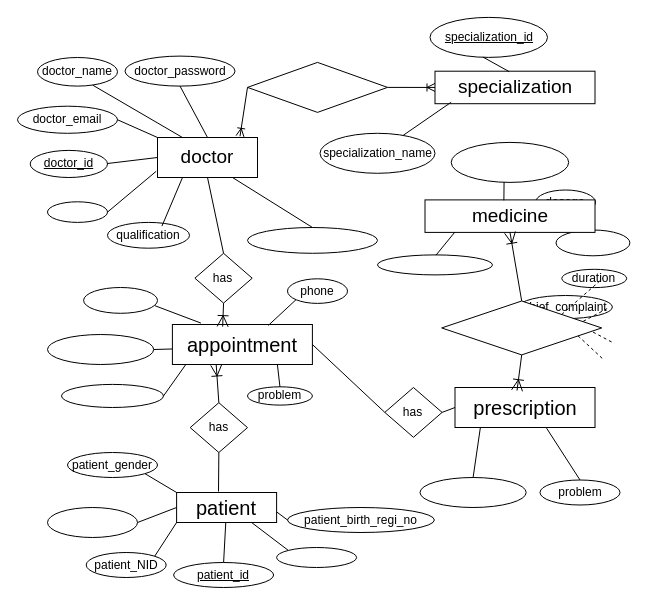
Image size: 648x606. Some labels were removed from this diagram. The centre of each missing label's shape, as x and y in pixels:
appointment_date: (112,395)
appointment_no: (100,349)
before_after: (592,242)
doctor_specialization: (317,86)
medicine_id: (509,161)
medicine_name: (434,264)
mobile: (77,211)
patient_dob: (316,557)
patient_name: (92,522)
prescribed_medicine: (521,327)
prescription_id: (472,492)
registration_number: (312,239)
status: (120,299)
